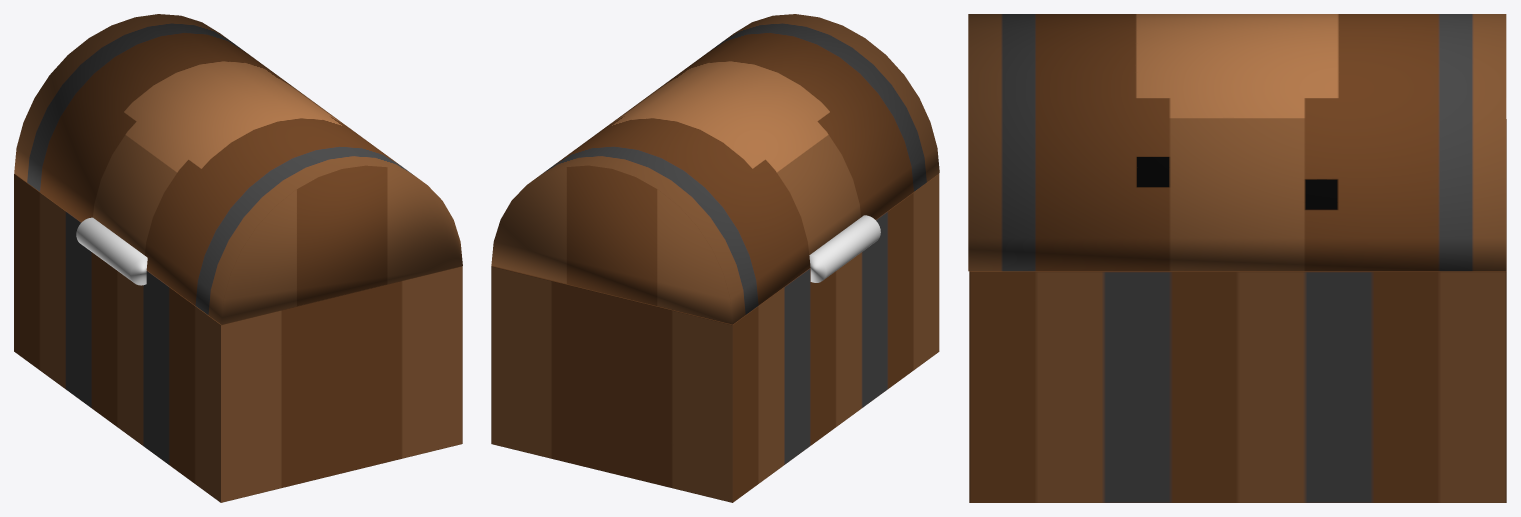
File: Chester.fbx
3 views of the same model, side by side, from view 1: azimuth 30°, elevation 25°; view 2: azimuth 150°, elevation 25°; view 3: azimuth 270°, elevation 25° (orthographic). The views are drawn at different scales.
Parts seen in each view (by area): view 1: Lid, Chester, Hinge; view 2: Lid, Chester, Hinge; view 3: Lid, Chester.
Part boxes in pixels (x1,y1,x2,y2): Lid: (14, 14, 462, 324); Chester: (14, 173, 462, 502); Hinge: (76, 217, 147, 285); Lid: (491, 14, 939, 324); Chester: (491, 174, 939, 502); Hinge: (809, 215, 880, 282); Lid: (968, 14, 1506, 271); Chester: (969, 119, 1506, 502).
Bounding box in the file's own units: 144 × 163 × 200.
3 materials, 2 textured.
